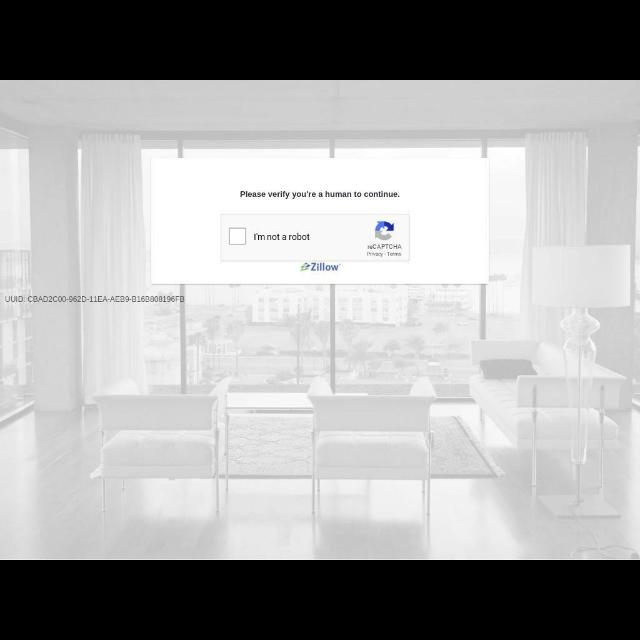backgroundimage: (1, 80, 639, 558)
checkbox: (229, 228, 247, 246)
image: (300, 262, 342, 274), (374, 220, 396, 240)
text: (240, 188, 402, 202), (5, 293, 185, 305), (254, 233, 312, 243), (368, 242, 402, 250), (368, 251, 402, 257)
